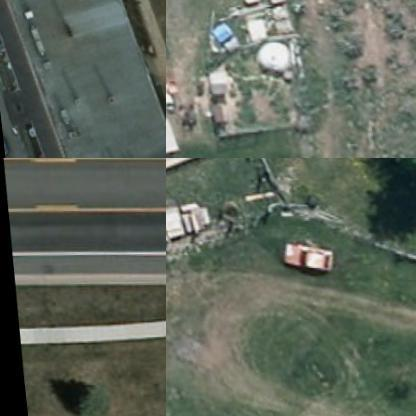car: (275, 244, 331, 280)
